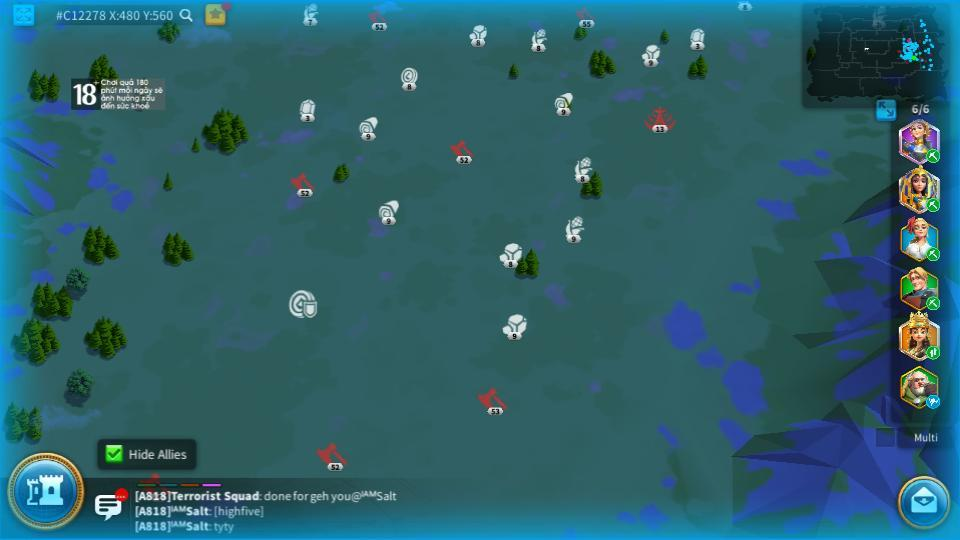gem-z-out: (297, 98, 316, 120)
march_idle: (925, 395, 942, 407)
march_marching: (925, 199, 941, 212), (925, 148, 941, 161), (925, 347, 941, 359), (925, 298, 941, 309)
